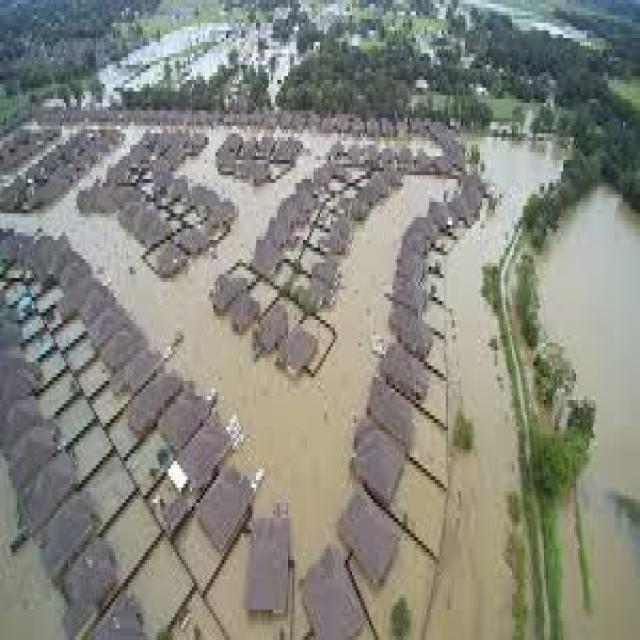flooded_areas: (0, 126, 480, 636)
